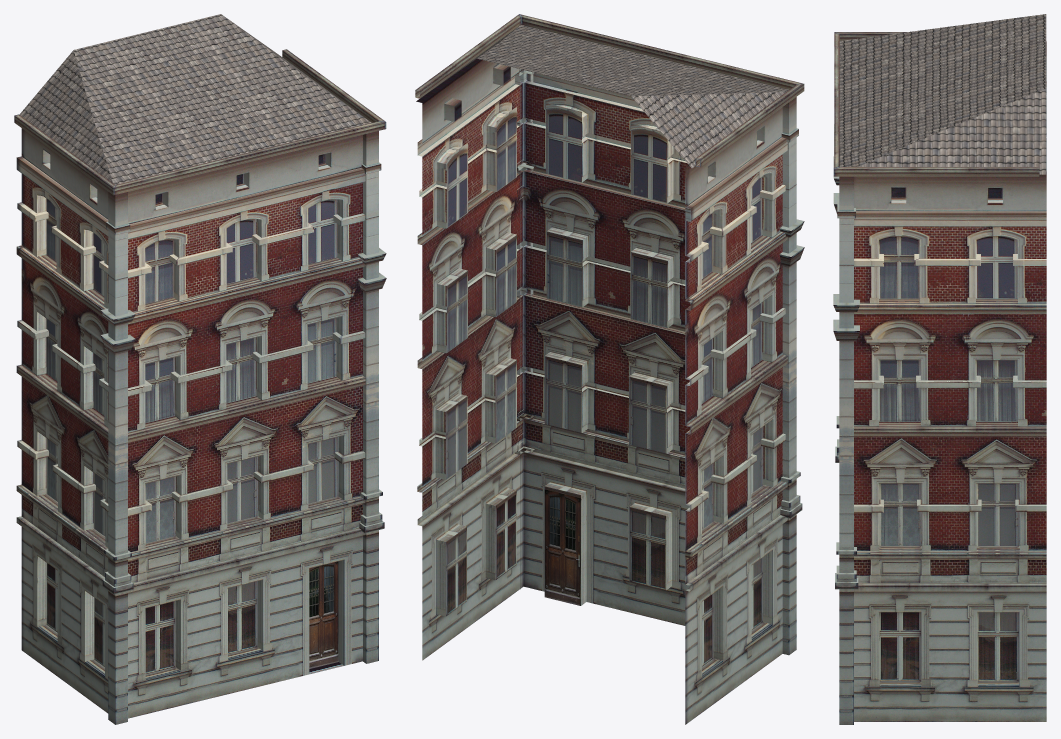
File: Apartment_House_101_Low_Poly_3d_Model.glb
3 views of the same model, side by side, from view 1: azimuth 30°, elevation 25°; view 2: azimuth 150°, elevation 25°; view 3: azimuth 270°, elevation 25° (orthographic). The views are drawn at different scales.
Visible parts, largest first — view 1: Plane001_07 - Defaults_0, Object014_15 - Default5_0; view 2: Plane001_07 - Defaults_0, Object014_15 - Default5_0; view 3: Plane001_07 - Defaults_0, Object014_15 - Default5_0.
Part boxes in pixels (x1=…): Plane001_07 - Defaults_0: x1=14, y1=49, x2=386, y2=724; Object014_15 - Default5_0: x1=19, y1=14, x2=371, y2=184; Plane001_07 - Defaults_0: x1=415, y1=14, x2=804, y2=724; Object014_15 - Default5_0: x1=421, y1=25, x2=788, y2=168; Plane001_07 - Defaults_0: x1=833, y1=32, x2=1046, y2=724; Object014_15 - Default5_0: x1=839, y1=14, x2=1046, y2=174.
Size of the model in its own units: 496 by 1019 by 324.
Materials: 2 (2 with a texture image).
